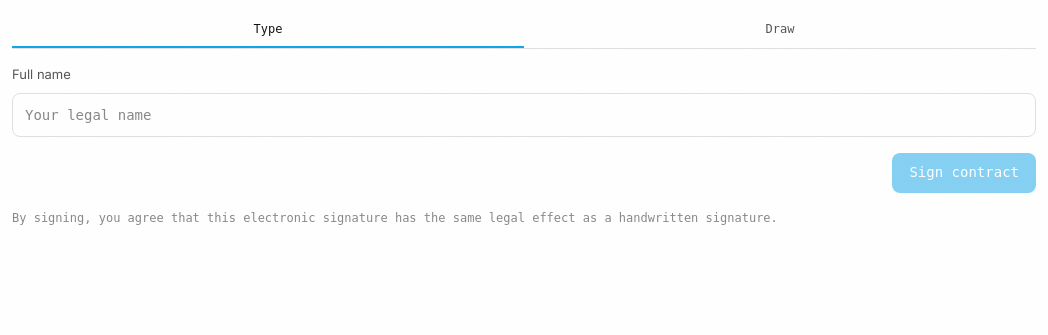
it: SignaturePad › shows signature preview when name is typed
This screenshot has width=1048, height=335.
In the field labelled "Full name": (524, 114) [12, 92, 1036, 136], type "Jane Smith"
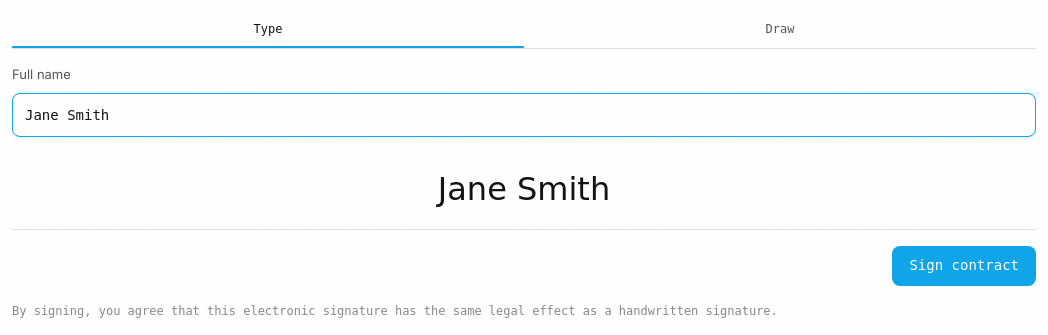
Result: the text named "Signature preview" reads "Jane Smith" at [438, 170, 610, 208]
